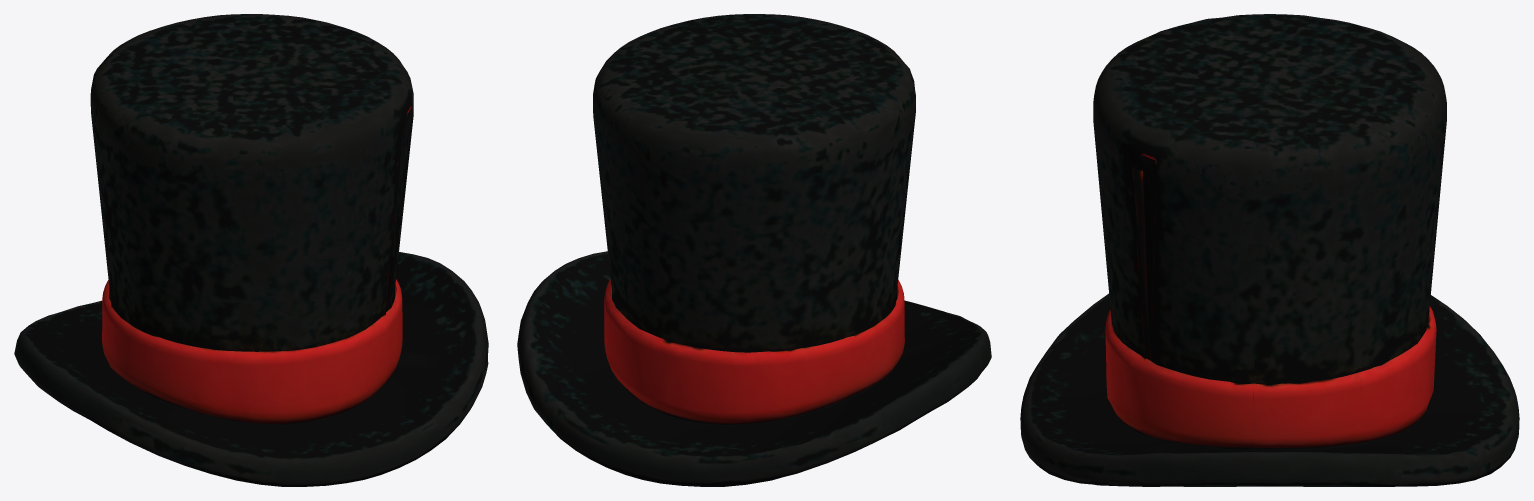
File: hat_top.glb
3 renders of one model, left to right at view 1: azimuth 30°, elevation 25°; view 2: azimuth 150°, elevation 25°; view 3: azimuth 270°, elevation 25°, orthographic. The views are drawn at different scales.
Visible parts, largest first — view 1: geometry_0; view 2: geometry_0; view 3: geometry_0.
Boxes of the visible parts, x1,y1,x2,y2 form: geometry_0: (14,14,488,486); geometry_0: (517,14,991,486); geometry_0: (1020,14,1519,486).
Size of the model in its own units: 0.9561 by 0.7212 by 0.9136.
Materials: 1 (1 with a texture image).
